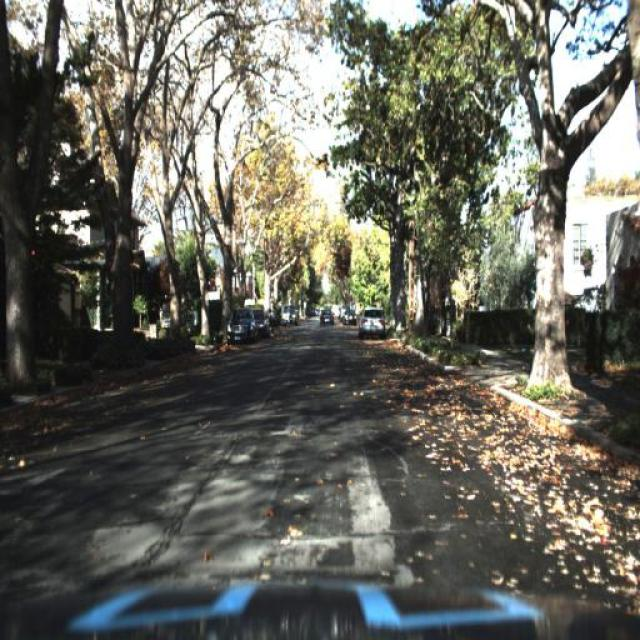car: (225, 306, 256, 350), (356, 304, 386, 341), (250, 303, 270, 342), (272, 302, 296, 330), (314, 304, 336, 324), (338, 305, 358, 327), (258, 305, 268, 341)
trafficLight: (266, 302, 278, 342)
